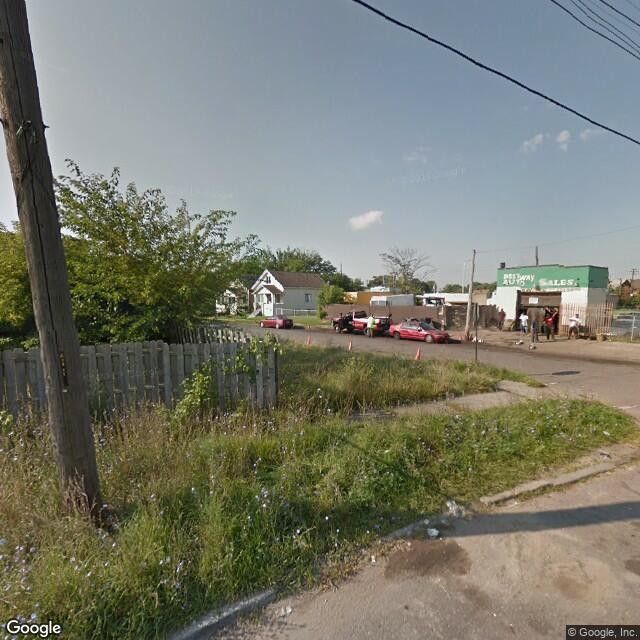litter: (428, 525, 442, 545), (269, 606, 299, 614), (602, 428, 613, 440), (373, 555, 380, 563)
